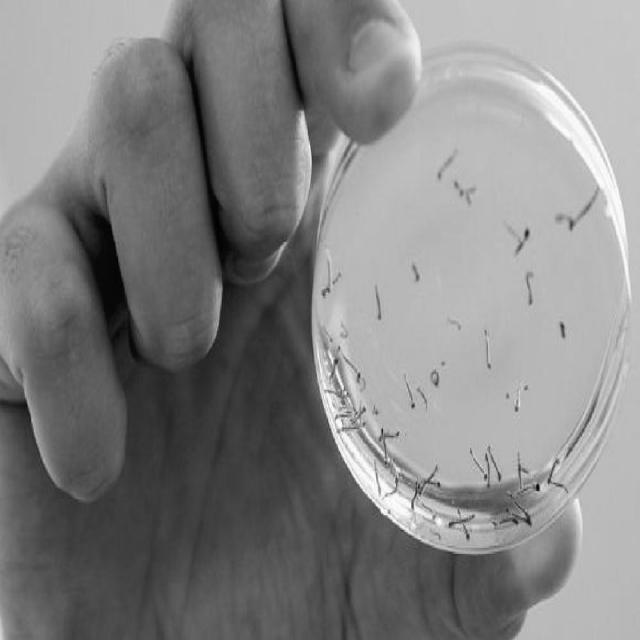larvas: (576, 188, 598, 222), (437, 150, 457, 180), (344, 355, 361, 381), (470, 451, 486, 477), (322, 276, 340, 298), (491, 446, 502, 481), (513, 483, 540, 497), (483, 330, 492, 369), (373, 285, 382, 321), (418, 471, 432, 494), (404, 374, 414, 406), (515, 230, 529, 252), (384, 476, 398, 498), (524, 271, 533, 305), (557, 213, 575, 229), (547, 458, 559, 482), (448, 515, 476, 525), (374, 462, 381, 496), (338, 425, 364, 434), (484, 450, 490, 488), (512, 514, 534, 524), (552, 482, 570, 494), (382, 430, 388, 465), (517, 504, 534, 516), (353, 405, 365, 422), (418, 389, 428, 409), (423, 503, 436, 517), (465, 187, 477, 202), (323, 326, 333, 344), (517, 454, 523, 483), (449, 318, 462, 331), (412, 482, 418, 509), (429, 369, 438, 386), (412, 265, 420, 283), (500, 518, 516, 527), (331, 358, 338, 378), (340, 322, 348, 339), (388, 431, 400, 442), (325, 389, 343, 396), (514, 388, 519, 413), (327, 258, 331, 284), (559, 320, 565, 337), (463, 524, 470, 538), (335, 414, 349, 421), (433, 478, 440, 488), (362, 378, 366, 394), (433, 531, 441, 538)
